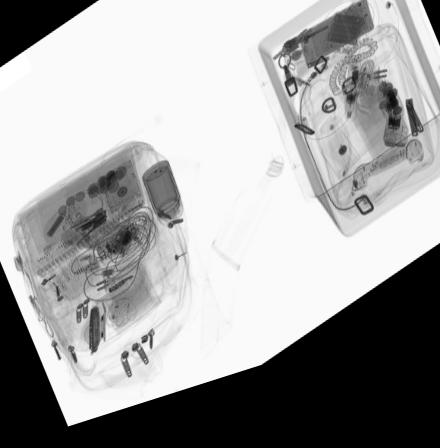Knife: (87, 311, 100, 359)
